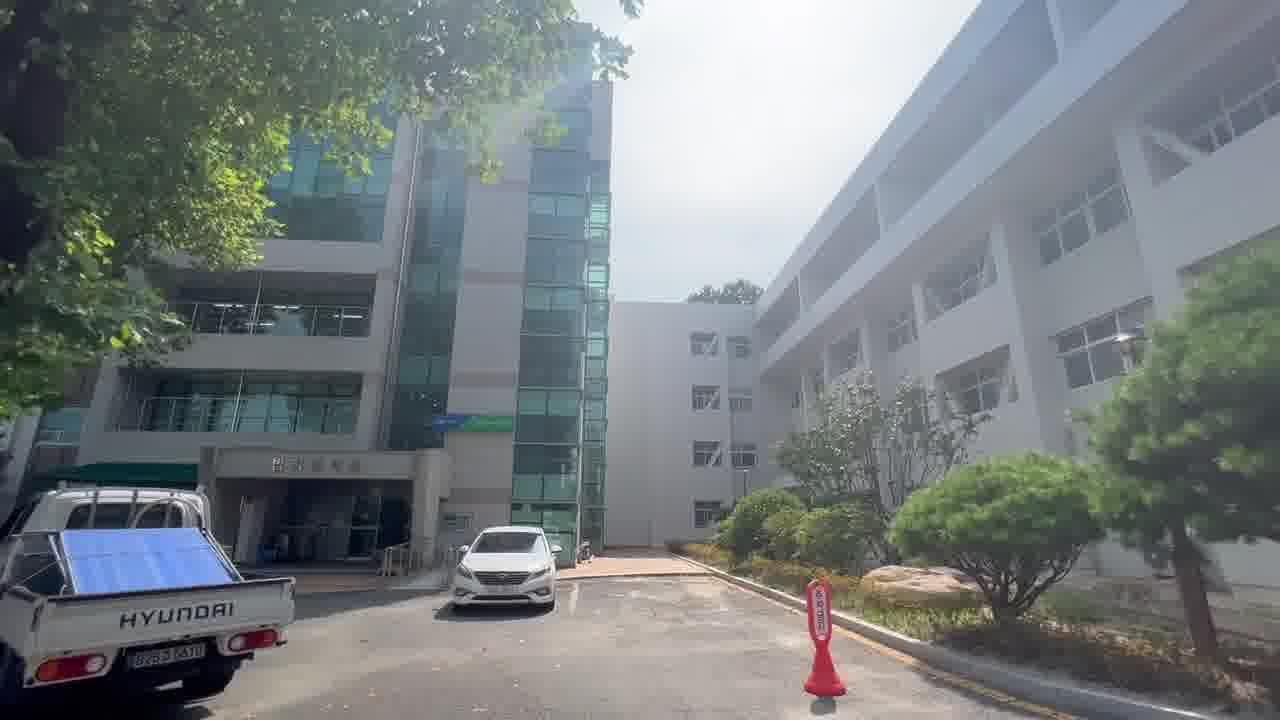low: (250, 191, 740, 556)
